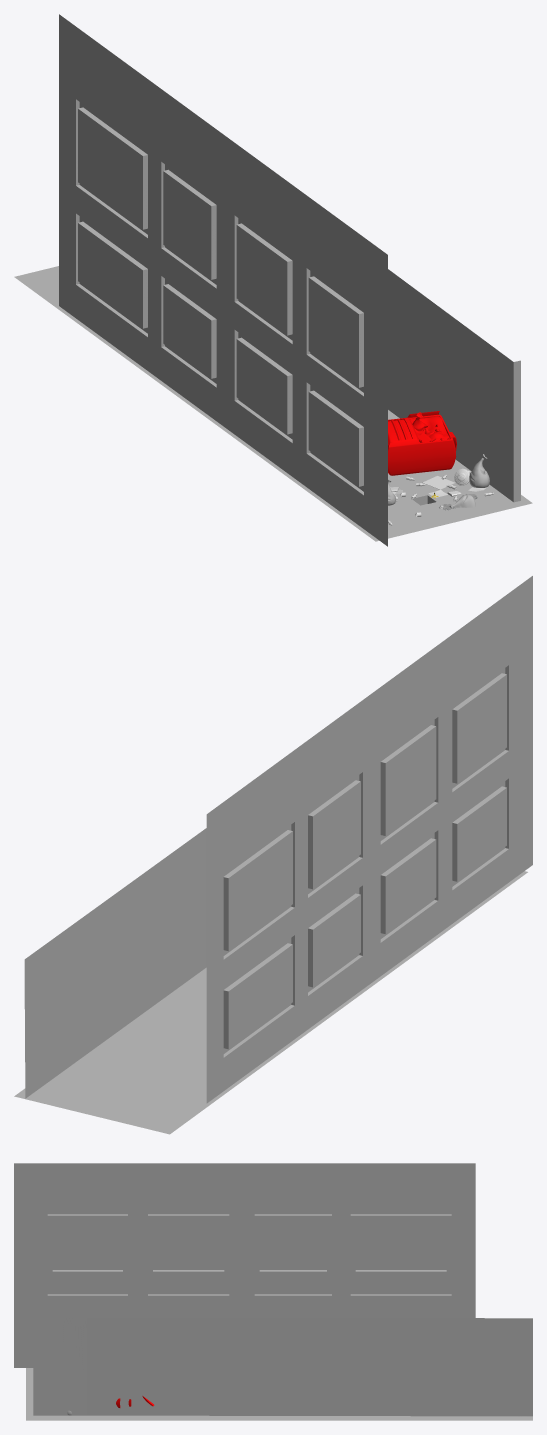
File: SM_RatMiniGameLayout.fbx
3 renders of one model, top to bottom at view 1: azimuth 30°, elevation 25°; view 2: azimuth 150°, elevation 25°; view 3: azimuth 270°, elevation 25°, orthographic. The views are drawn at different scales.
Parts seen in each view (by area): view 1: SM_RatMiniGame; view 2: SM_RatMiniGame; view 3: SM_RatMiniGame.
Boxes of the visible parts, x1,y1,x2,y2 form: SM_RatMiniGame: [14, 14, 532, 546]; SM_RatMiniGame: [14, 576, 532, 1134]; SM_RatMiniGame: [14, 1163, 532, 1420].
Size of the model in its own units: 608 by 1111 by 2480.
